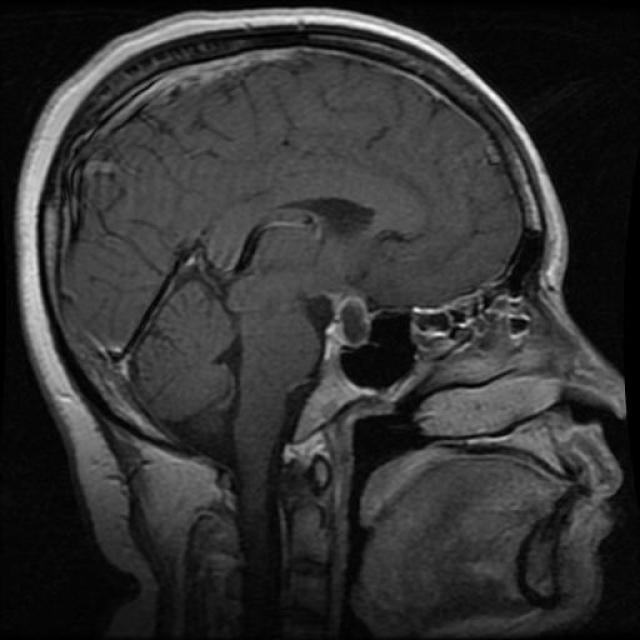pituitary: (317, 284, 378, 369)
